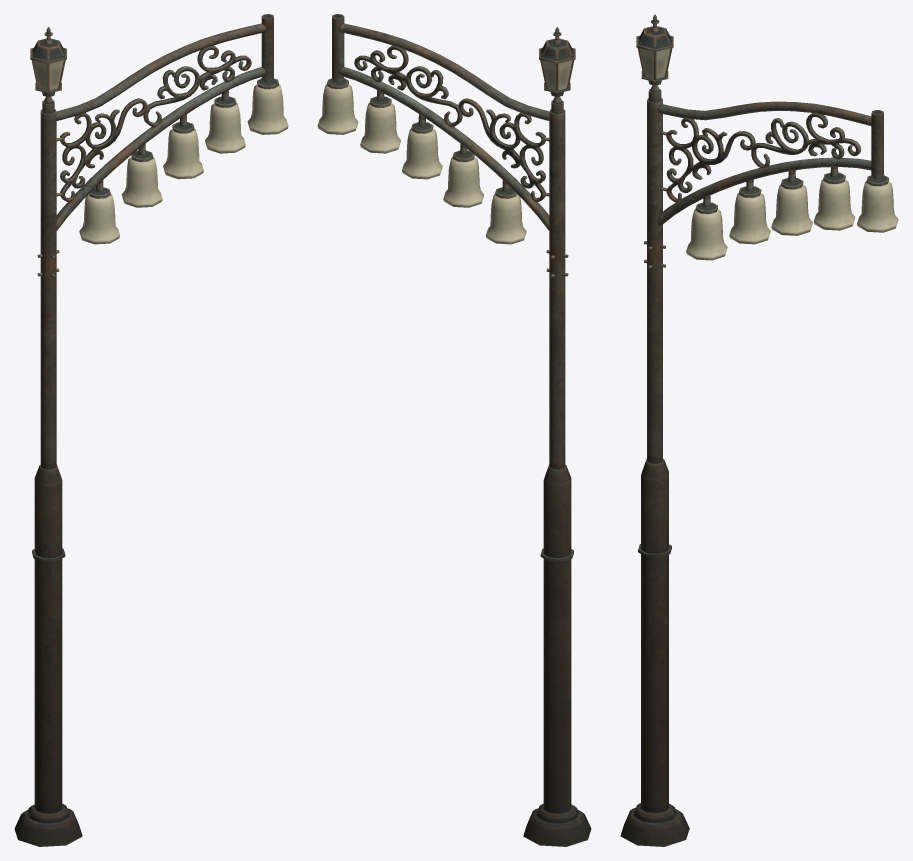
The model's file is lily_of_the_valley_street_lights.glb.
The picture shows the model from 3 angles, left to right: view 1: azimuth 30°, elevation 25°; view 2: azimuth 150°, elevation 25°; view 3: azimuth 330°, elevation 25°; orthographic projection.
Visible parts, largest first — view 1: LilyOfTheValleyStreetLights_EunbangwoolLamp_0; view 2: LilyOfTheValleyStreetLights_EunbangwoolLamp_0; view 3: LilyOfTheValleyStreetLights_EunbangwoolLamp_0.
Part boxes in pixels (x1,y1,x2,y2): LilyOfTheValleyStreetLights_EunbangwoolLamp_0: (14, 14, 288, 846); LilyOfTheValleyStreetLights_EunbangwoolLamp_0: (317, 14, 591, 846); LilyOfTheValleyStreetLights_EunbangwoolLamp_0: (620, 14, 898, 846).
Size of the model in its own units: 2.01 by 5.76 by 0.4578.
Materials: 1 (1 with a texture image).
